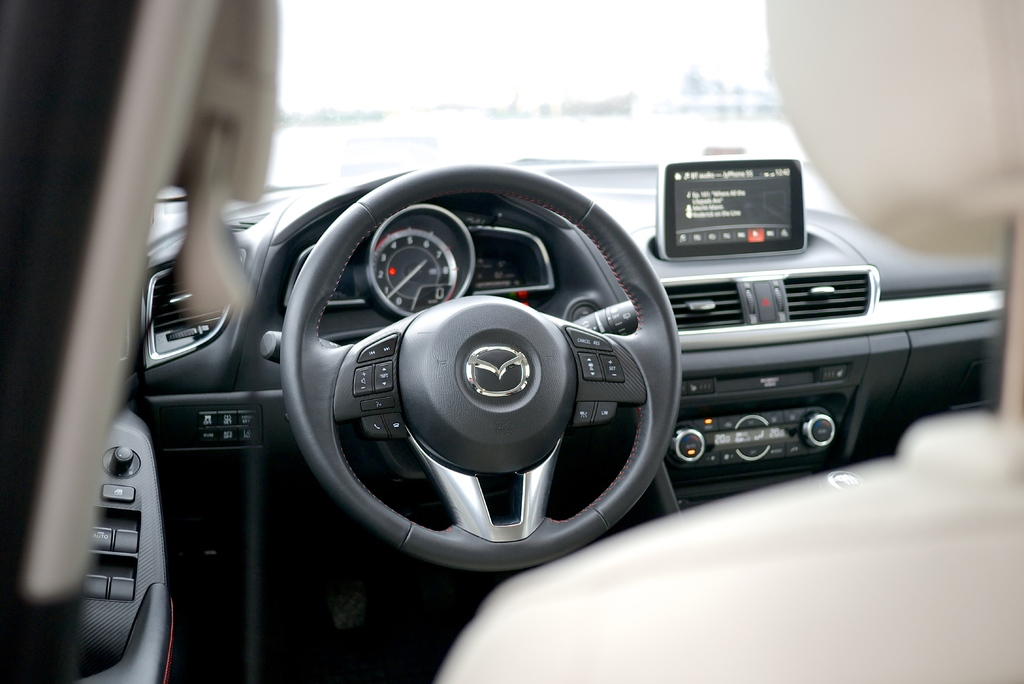Car: (77, 120, 919, 612)
